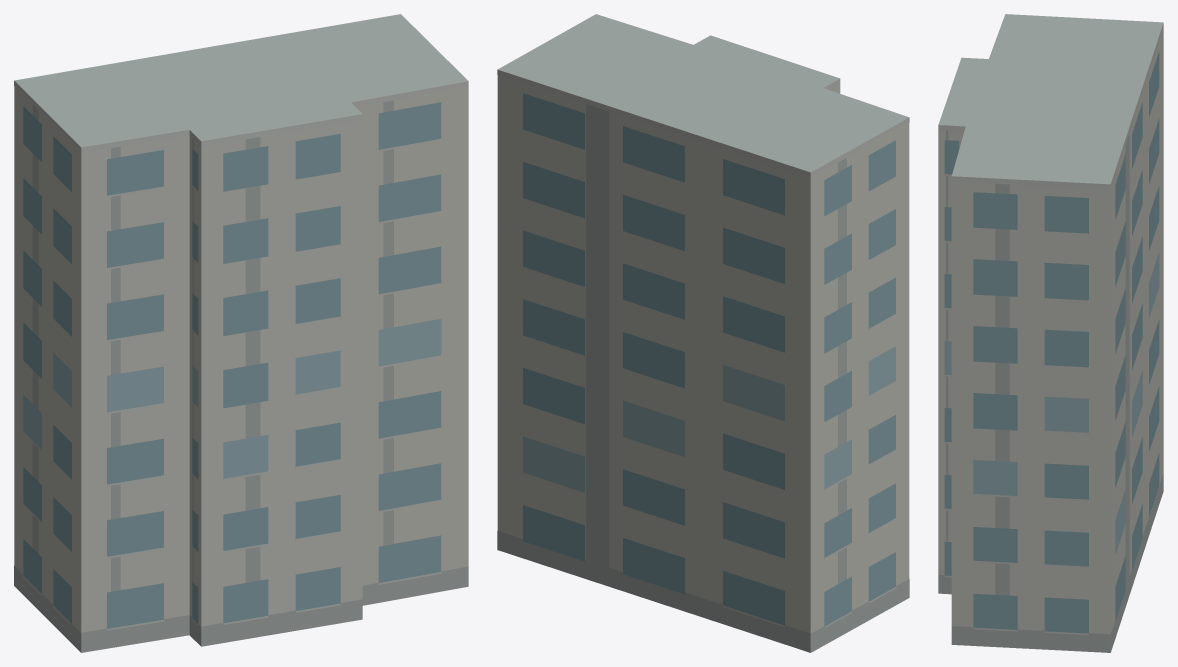
Rendered from survey-upis-32808839.glb.
3 renders of one model, left to right at view 1: azimuth 30°, elevation 25°; view 2: azimuth 150°, elevation 25°; view 3: azimuth 270°, elevation 25°, orthographic. The views are drawn at different scales.
Visible parts, largest first — view 1: survey-upis-32808839.tmp; view 2: survey-upis-32808839.tmp; view 3: survey-upis-32808839.tmp.
Part boxes in pixels (left/top/right/bottom): survey-upis-32808839.tmp: left=14, top=14, right=468, bottom=652; survey-upis-32808839.tmp: left=497, top=14, right=909, bottom=652; survey-upis-32808839.tmp: left=938, top=14, right=1163, bottom=652.
Bounding box in the file's own units: 17.09 × 21.9 × 9.56.
